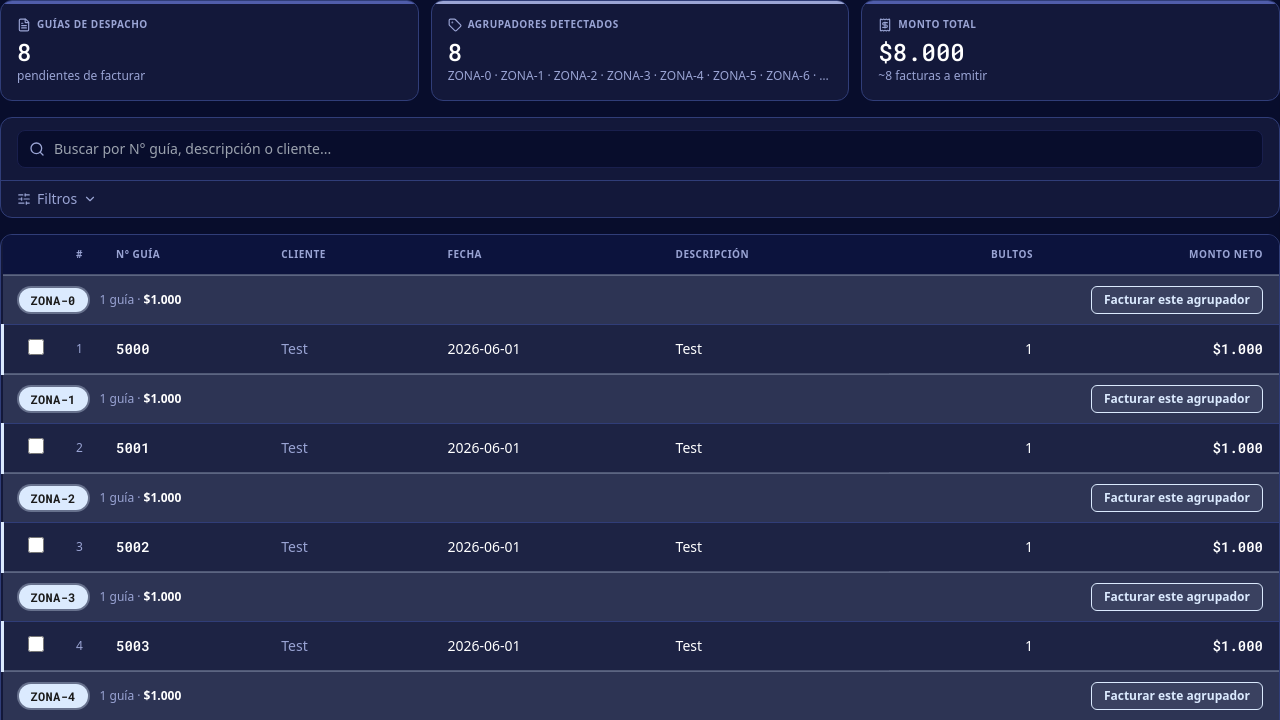
Test: Guias page › shows combobox instead of chips when there are 8 or more agrupadores
The width and height of the screenshot is (1280, 720).
Step 1. Click the button with test id "toggle-filtros" → (57, 199), box [17,189,97,209]
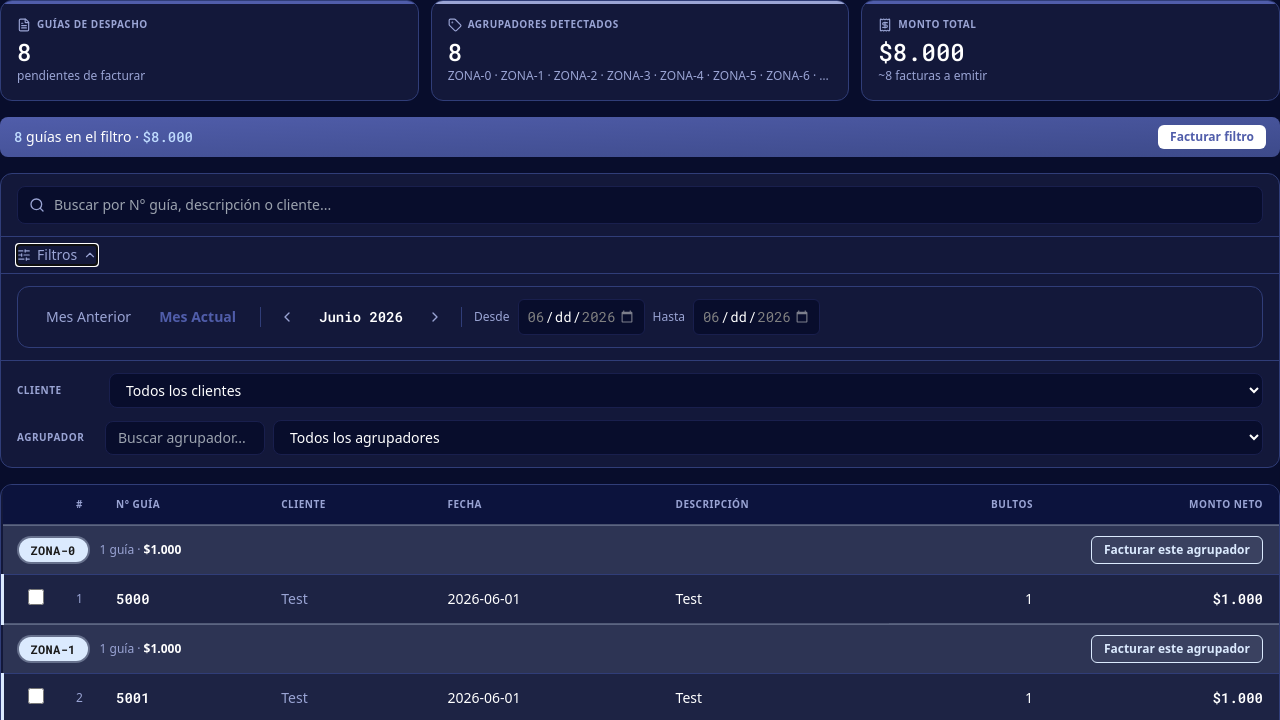
Expected: the element with test id "agrupador-combobox" is shown, [105,420,1263,455]
